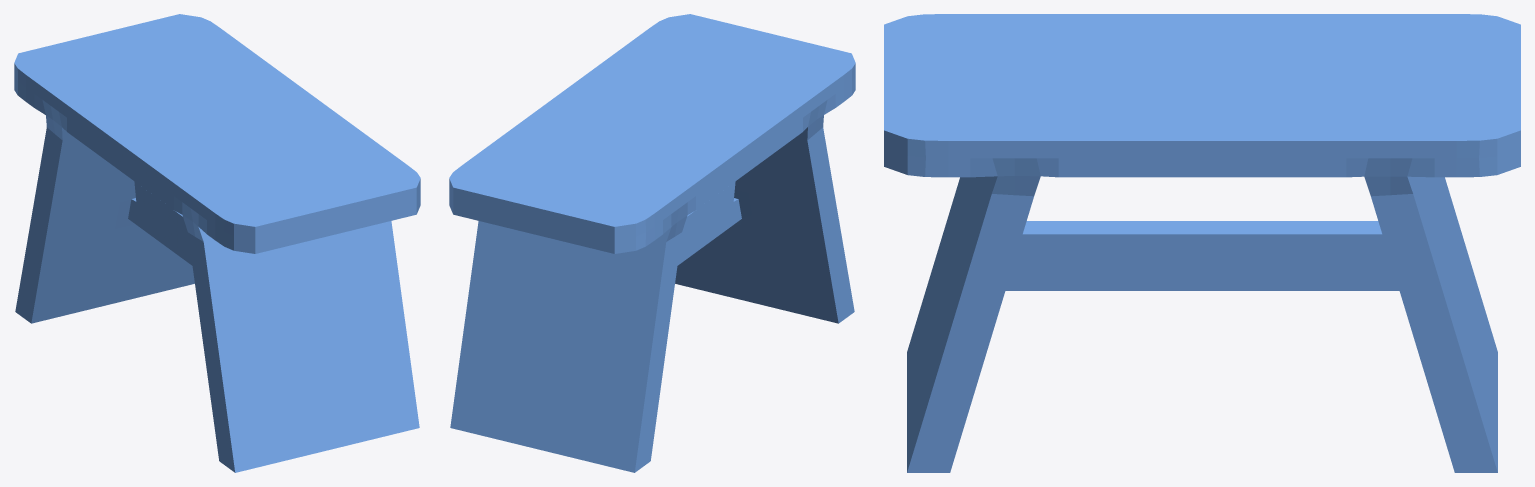
File: bath chair.fbx
3 renders of one model, left to right at view 1: azimuth 30°, elevation 25°; view 2: azimuth 150°, elevation 25°; view 3: azimuth 270°, elevation 25°, orthographic. The views are drawn at different scales.
Parts seen in each view (by area): view 1: bathchair; view 2: bathchair; view 3: bathchair.
Part boxes in pixels (<box>): bathchair: <box>14,14,420,472</box>; bathchair: <box>449,14,855,472</box>; bathchair: <box>884,14,1520,472</box>.
Bounding box in the file's own units: 168 × 206 × 356.
